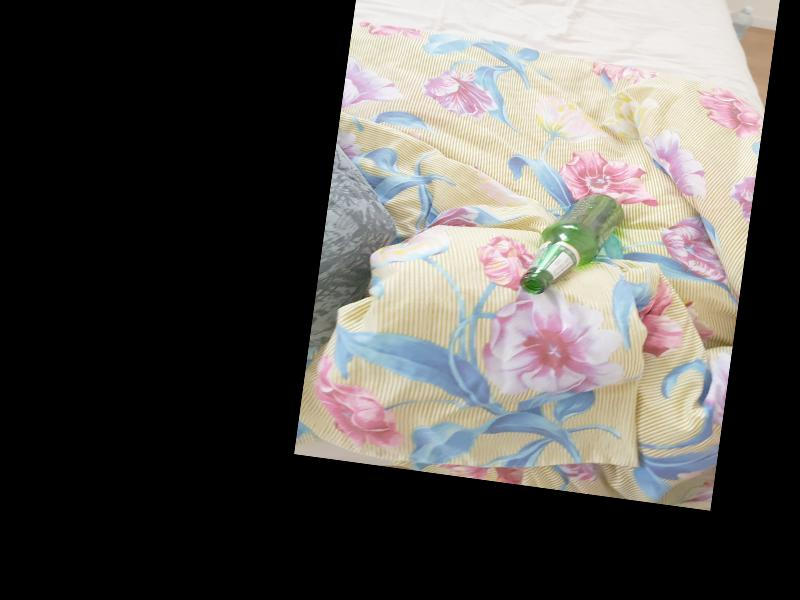Beer: (520, 185, 626, 305)
